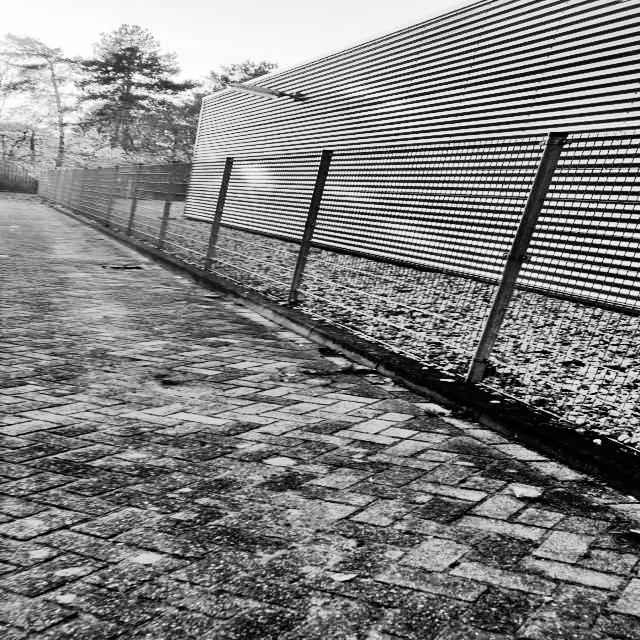fences: (331, 152, 640, 431), (168, 165, 306, 318), (75, 171, 161, 254), (45, 166, 69, 207)
